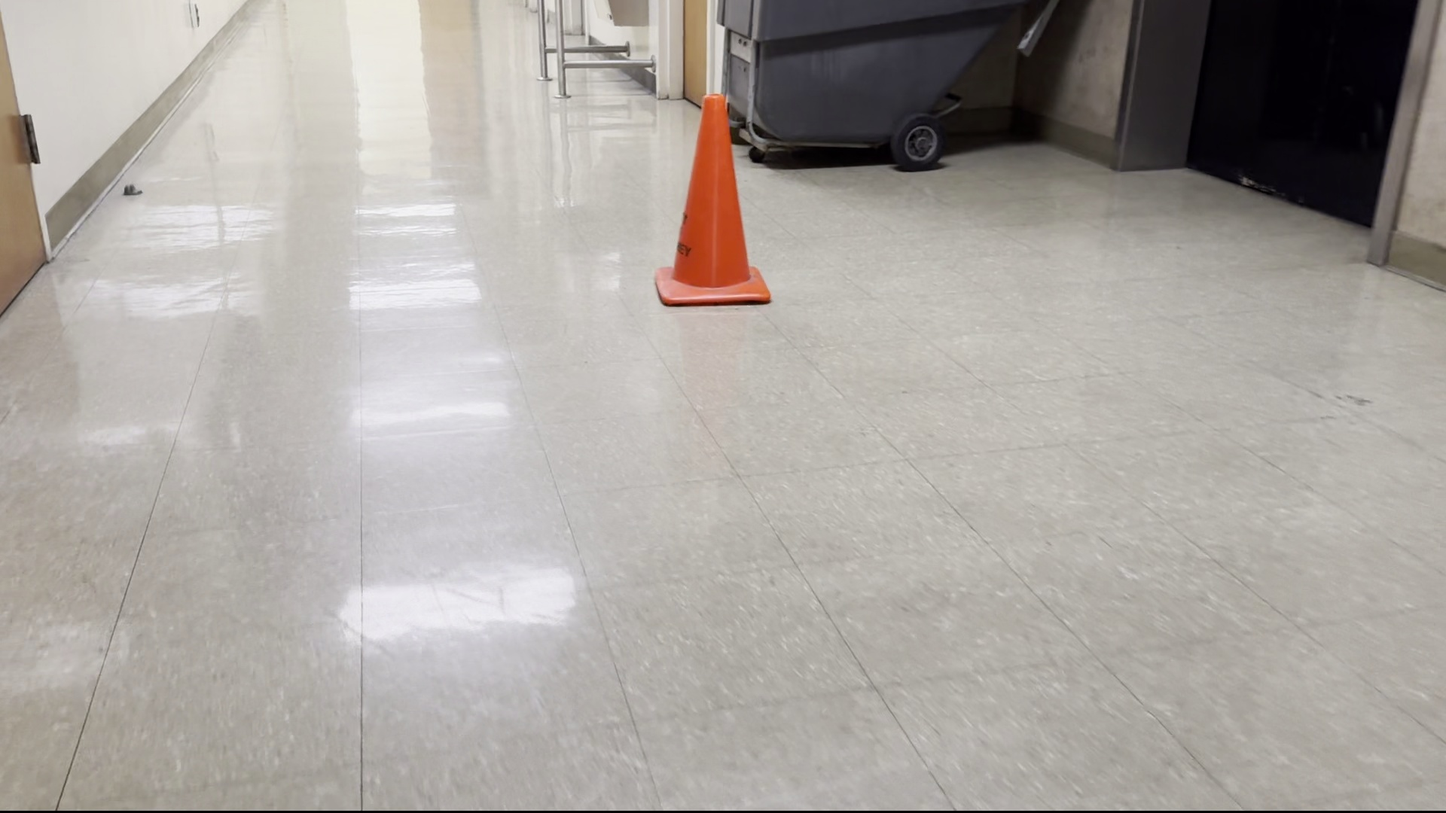traffic_cone: (653, 92, 772, 307)
